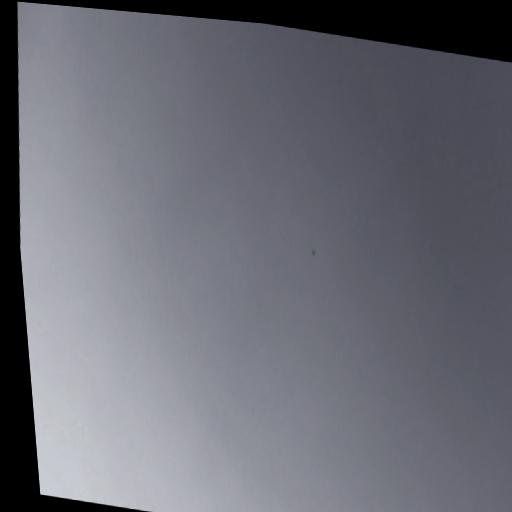drones: (311, 248, 316, 257)
